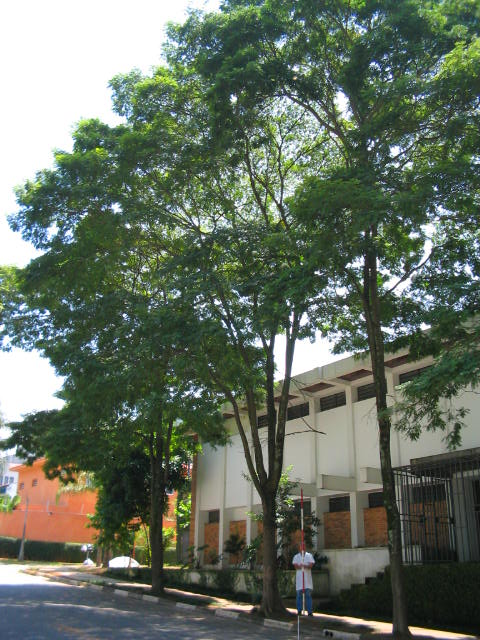crown: (12, 64, 350, 425), (286, 5, 477, 338), (4, 306, 244, 491)
stem: (359, 346, 428, 637), (250, 497, 291, 615), (141, 460, 174, 596)
stick: (296, 488, 308, 618)
tree: (9, 63, 352, 617), (283, 4, 478, 638), (1, 305, 245, 598)
